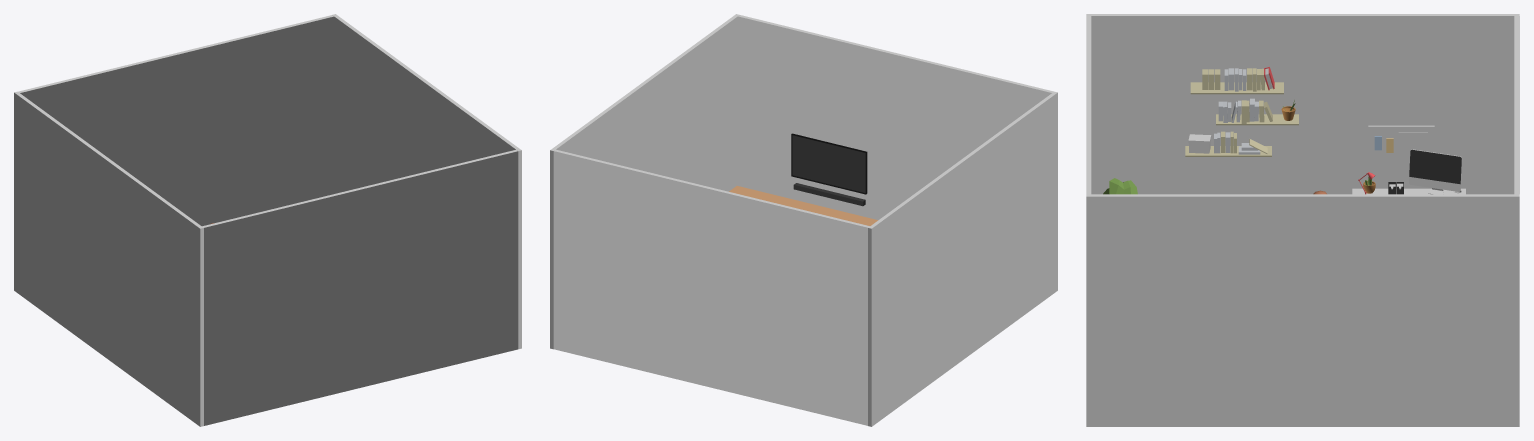
Rendered from Diorama04.gltf.
3 views of the same model, side by side, from view 1: azimuth 30°, elevation 25°; view 2: azimuth 150°, elevation 25°; view 3: azimuth 270°, elevation 25° (orthographic). The views are drawn at different scales.
Visible parts, largest first — view 1: west_wall, east_wall, north_wallShape, south_wall; view 2: east_wall, north_wallShape, west_wall, south_wall, TVShape, TVBenchShape, pCube22; view 3: south_wall, north_wallShape, blueBooks:PIV, yellowBooks:PIV, PCscreen:PIV, ArtShape, west_wall, east_wall, ShelfShape, PCShape, middleShelf:PIV, polySurface33:PIV (+4 smaller).
Boxes of the visible parts, left/top/right/bottom form: west_wall: left=202, top=150, right=518, bottom=425; east_wall: left=18, top=15, right=334, bottom=226; north_wallShape: left=14, top=91, right=203, bottom=426; south_wall: left=332, top=14, right=521, bottom=349; east_wall: left=553, top=149, right=869, bottom=425; north_wallShape: left=868, top=91, right=1057, bottom=426; west_wall: left=738, top=15, right=1053, bottom=220; south_wall: left=550, top=14, right=739, bottom=349; TVShape: left=791, top=133, right=867, bottom=194; TVBenchShape: left=729, top=186, right=877, bottom=225; pCube22: left=793, top=183, right=865, bottom=206; south_wall: left=1086, top=194, right=1519, bottom=426; north_wallShape: left=1086, top=14, right=1519, bottom=194; blueBooks:PIV: left=1214, top=68, right=1260, bottom=154; yellowBooks:PIV: left=1202, top=68, right=1272, bottom=153; PCscreen:PIV: left=1409, top=149, right=1461, bottom=184; ArtShape: left=1368, top=125, right=1434, bottom=158; west_wall: left=1086, top=16, right=1091, bottom=194; east_wall: left=1514, top=16, right=1519, bottom=194; ShelfShape: left=1190, top=82, right=1283, bottom=94; PCShape: left=1409, top=149, right=1462, bottom=194; middleShelf:PIV: left=1216, top=114, right=1298, bottom=125; polySurface33:PIV: left=1398, top=132, right=1427, bottom=152.
Size of what is drawn, in the model's own units: 20.46 by 12.05 by 20.52.
